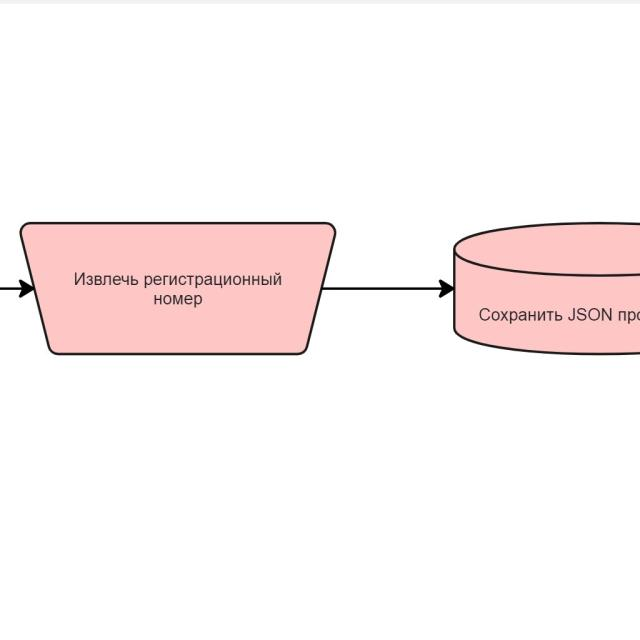arrow: (323, 280, 453, 298), (0, 280, 33, 298)
rectangle: (21, 223, 334, 354)
